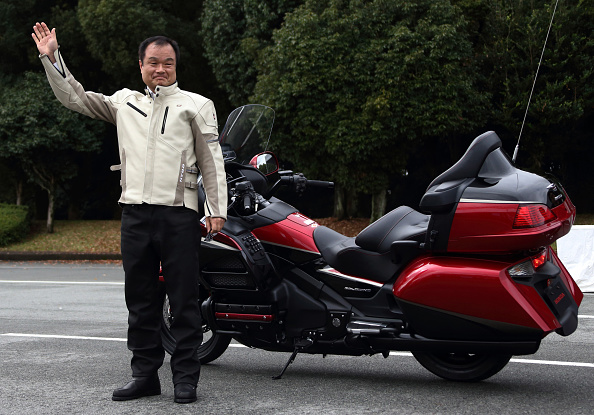em pe: (54, 28, 239, 382)
